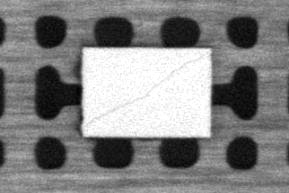DIE_CRACK: (85, 51, 209, 124)
